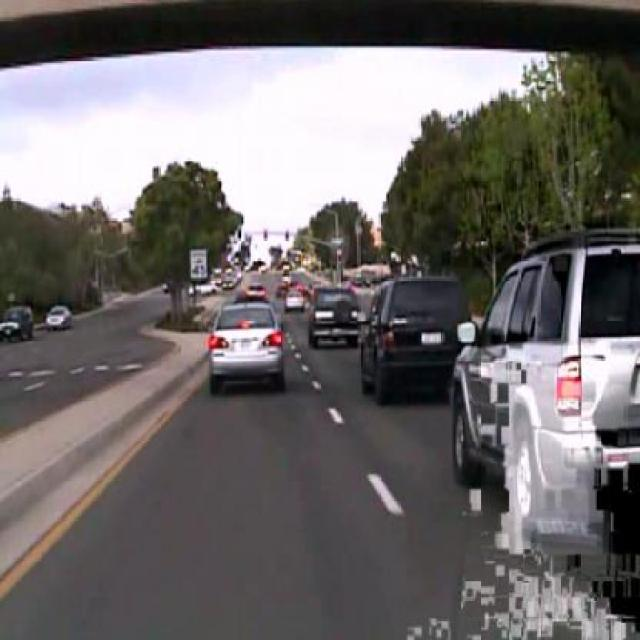speedLimit45: (189, 246, 208, 279)
